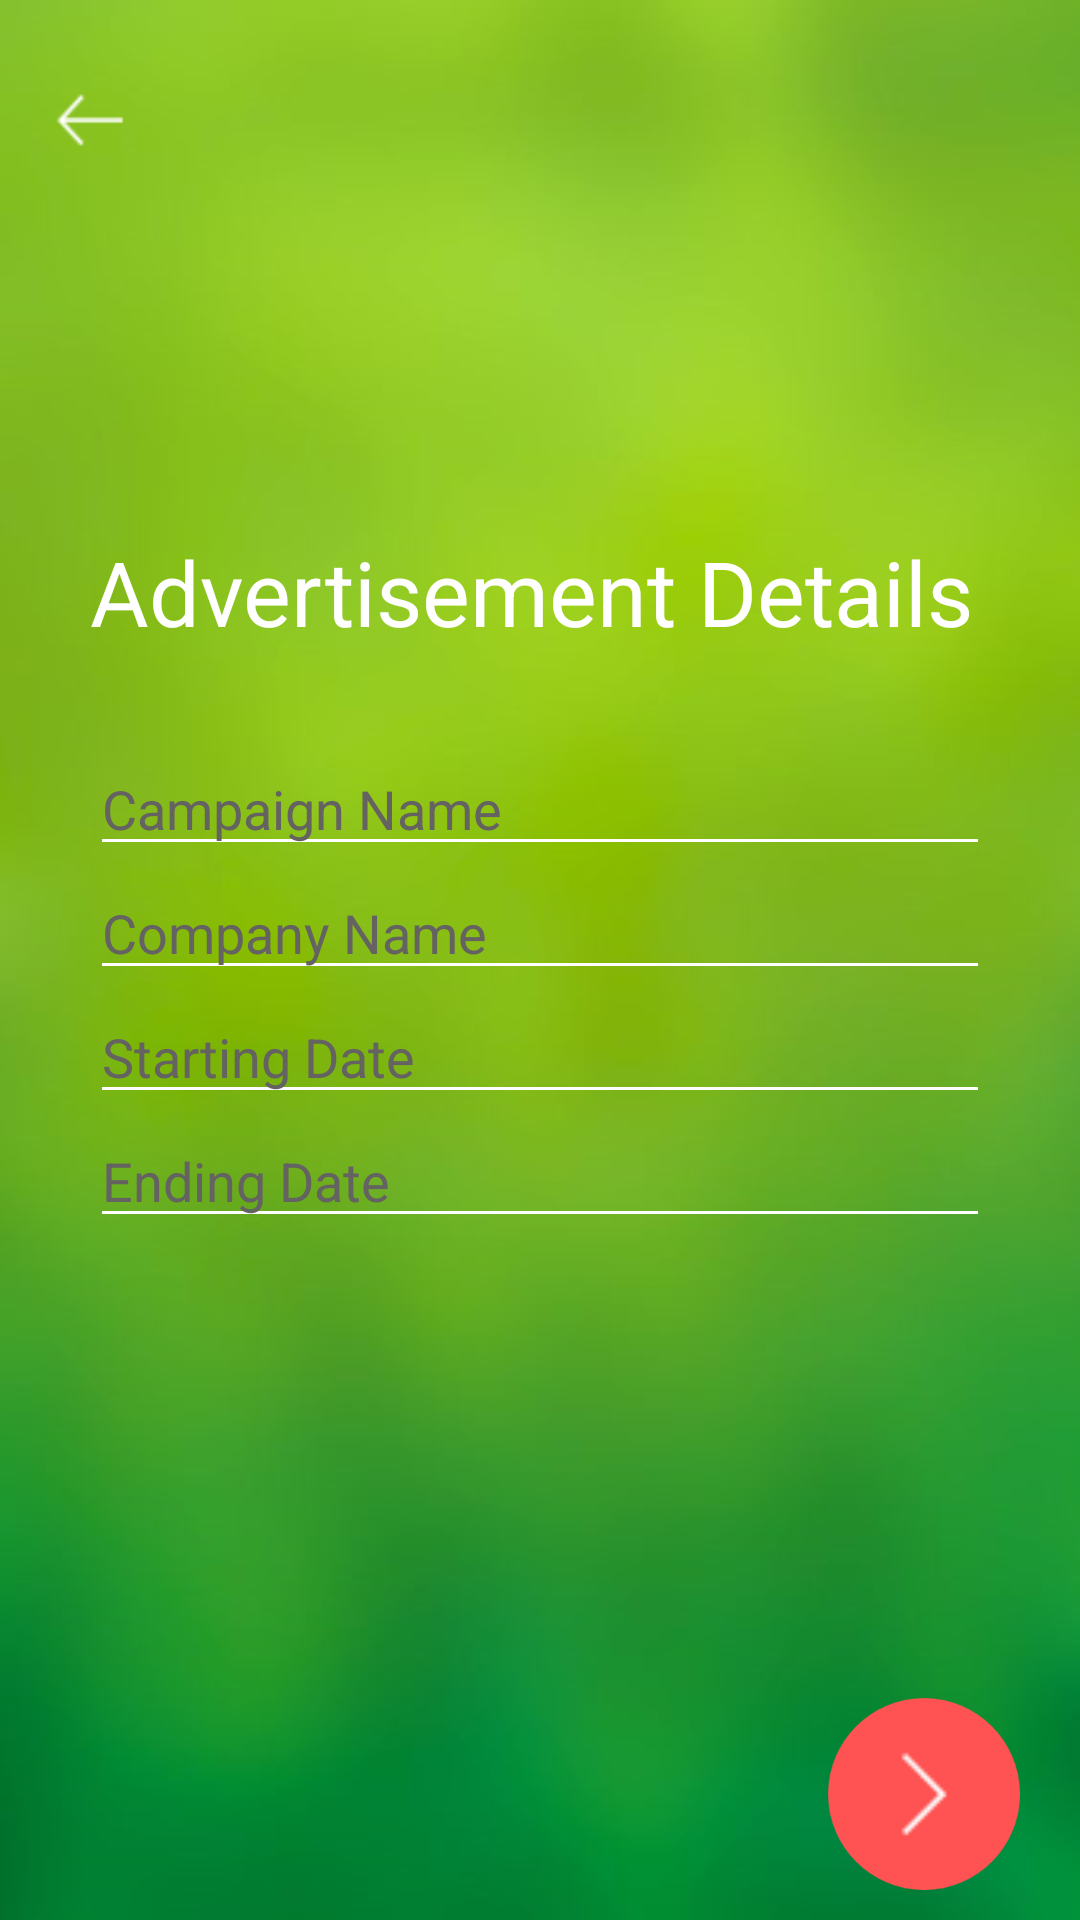

Icon bounding boxes for this 1080×1920 phone screenshot, format (x1, y1, x2, y2):
arrowback: (57, 94, 123, 146)
